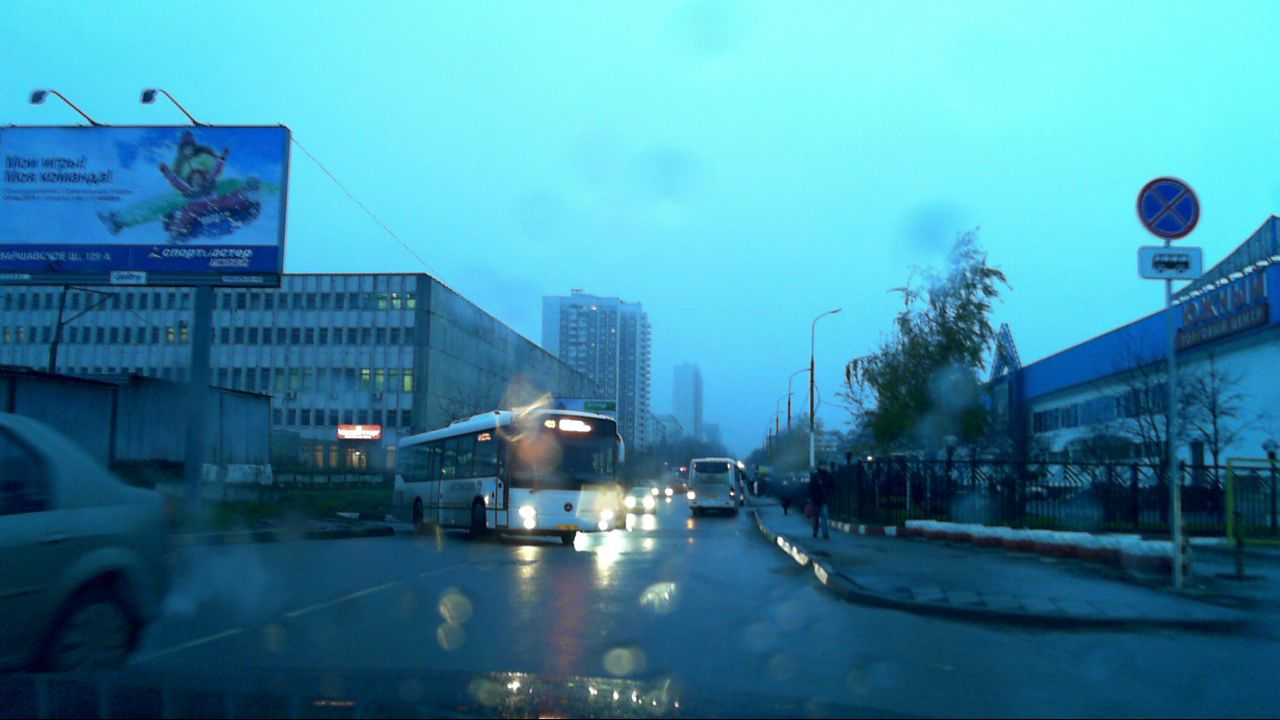No Parking: (1136, 176, 1198, 239)
